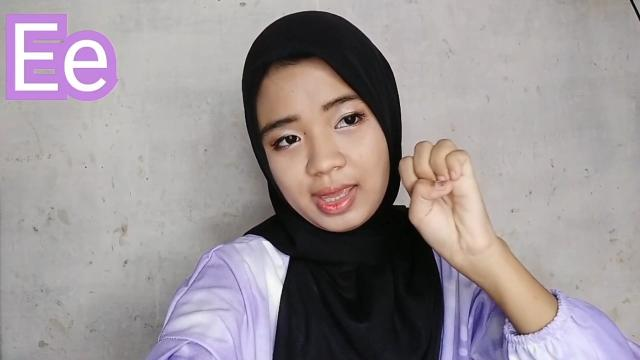E: (396, 136, 500, 262)
